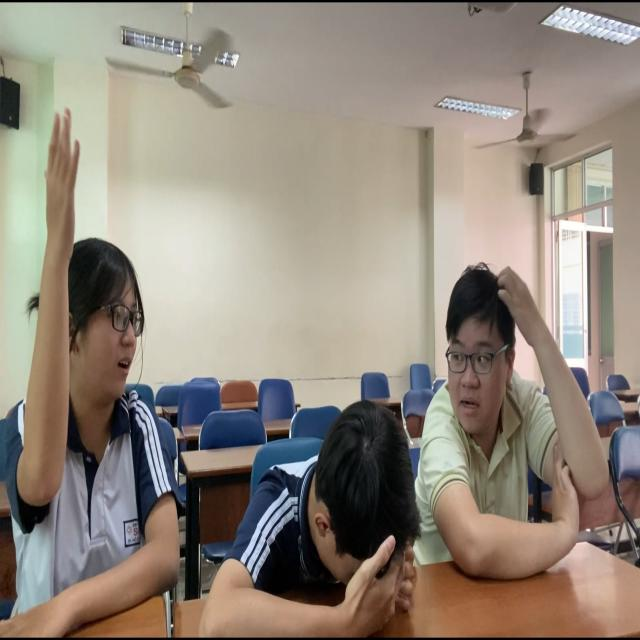raise_hand: (1, 112, 189, 640)
